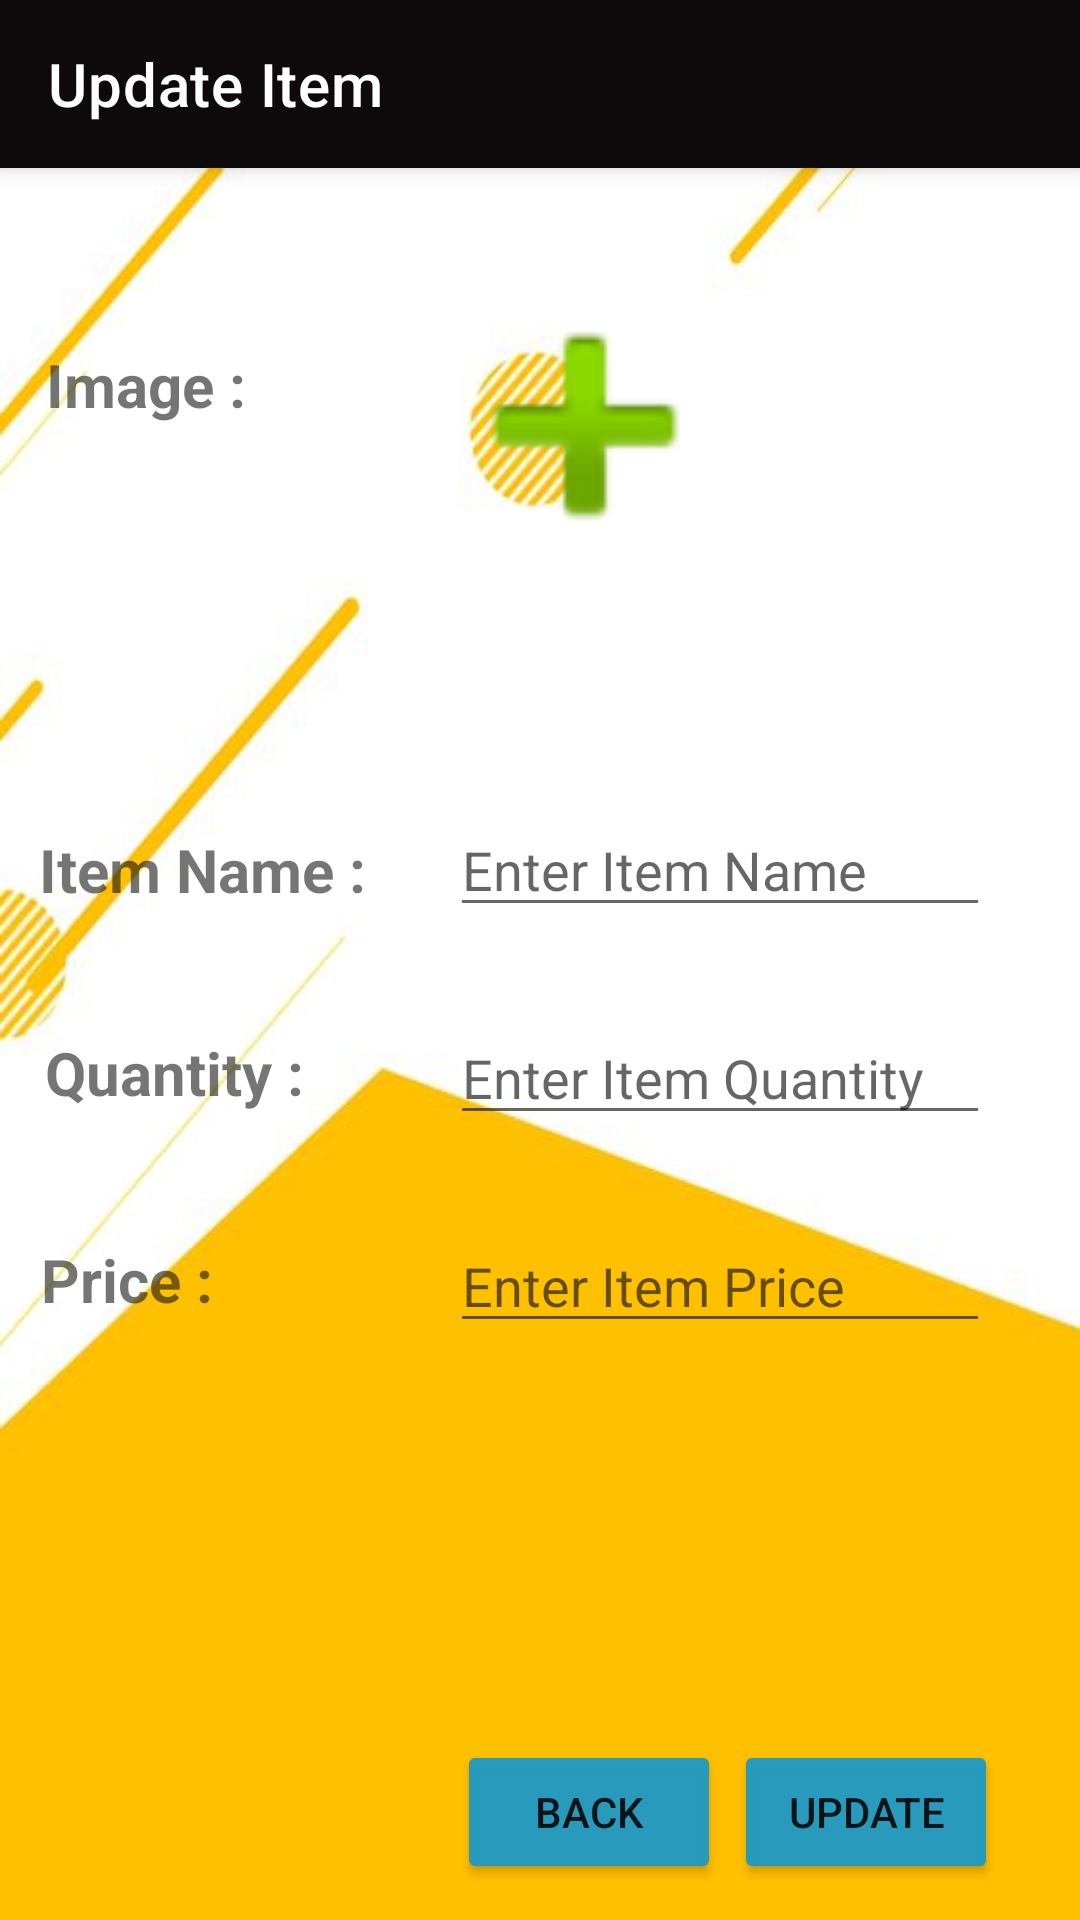

Icons on this 1080x1920 Android screen, each with the point to tap as [x,y]:
add: [573,426]
